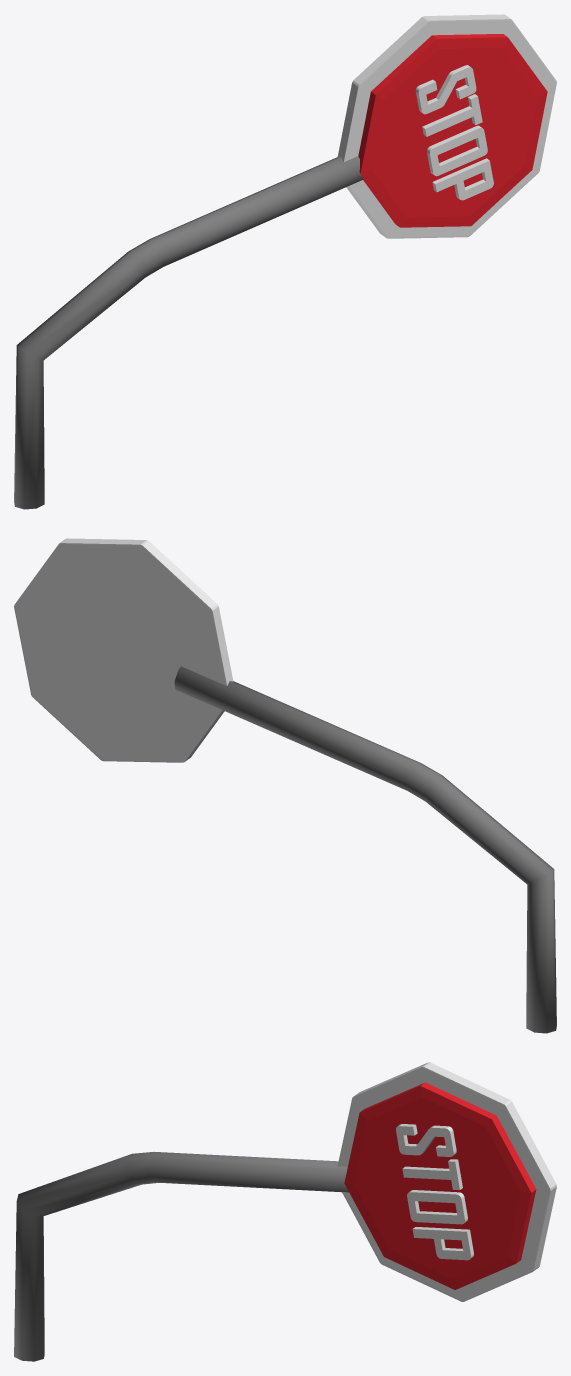
File: BrokenStopSign.fbx
The picture shows the model from 3 angles, top to bottom: view 1: azimuth 30°, elevation 25°; view 2: azimuth 150°, elevation 25°; view 3: azimuth 330°, elevation 25°; orthographic projection.
Parts seen in each view (by area): view 1: StopSign; view 2: StopSign; view 3: StopSign.
Part boxes in pixels (box(x1,y1,x2,y2)): StopSign: box(14, 14, 556, 509); StopSign: box(14, 538, 556, 1033); StopSign: box(14, 1062, 556, 1361).
Bounding box in the file's own units: 621 × 427 × 37.38.
